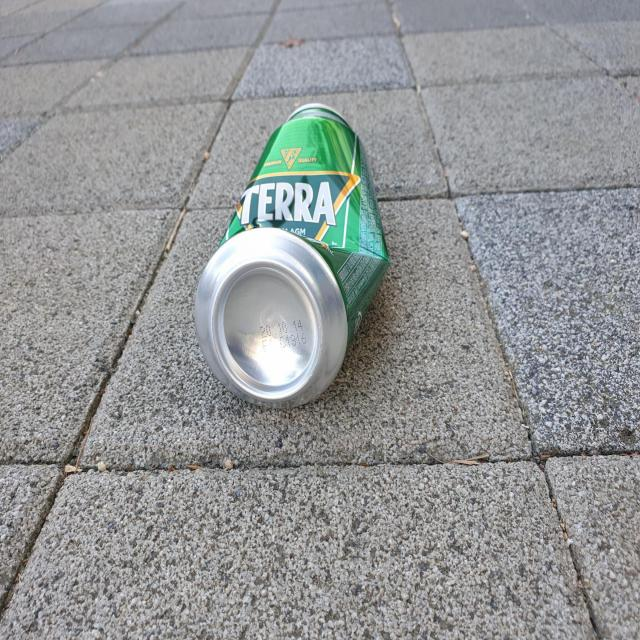can: (194, 103, 390, 408)
